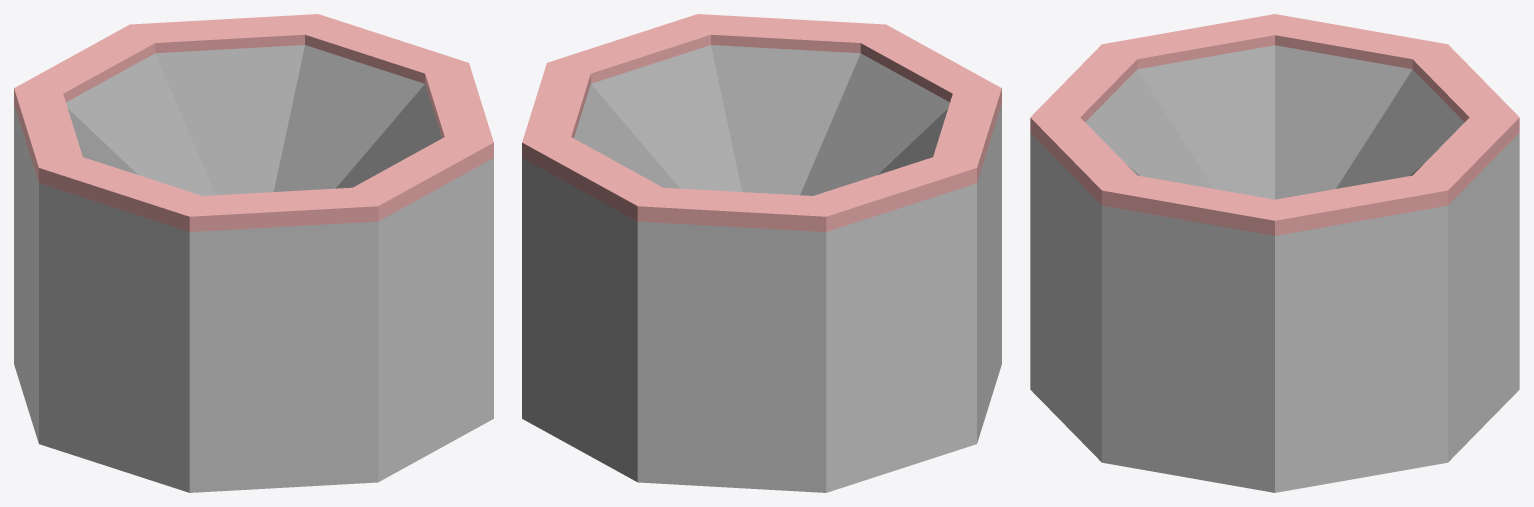
File: TurretTwo.fbx
3 renders of one model, left to right at view 1: azimuth 30°, elevation 25°; view 2: azimuth 150°, elevation 25°; view 3: azimuth 270°, elevation 25°, orthographic.
Visible parts, largest first — view 1: TurretTwo; view 2: TurretTwo; view 3: TurretTwo.
Boxes of the visible parts, box(x1,y1,x2,y2) form: TurretTwo: box(14, 14, 493, 492); TurretTwo: box(522, 14, 1001, 492); TurretTwo: box(1030, 14, 1519, 492).
Bounding box in the file's own units: 88 × 54 × 88.
